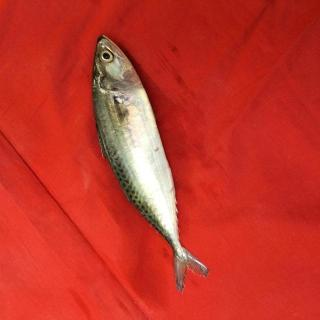Ikan: (77, 24, 221, 304)
